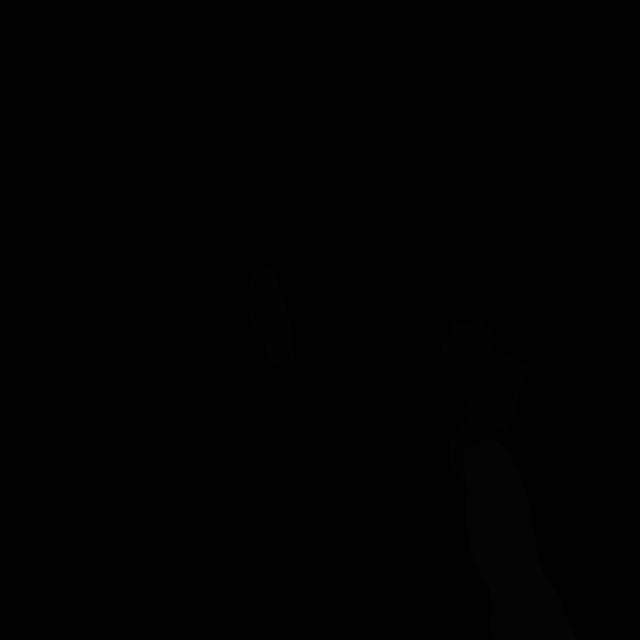cardboard: (439, 317, 530, 487), (246, 269, 295, 377)
soft_plastic: (464, 439, 578, 640)
